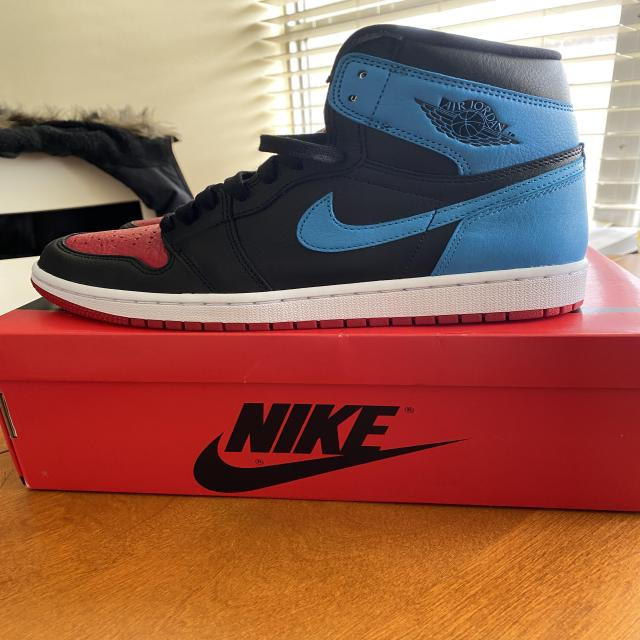shoes: (31, 21, 593, 331)
